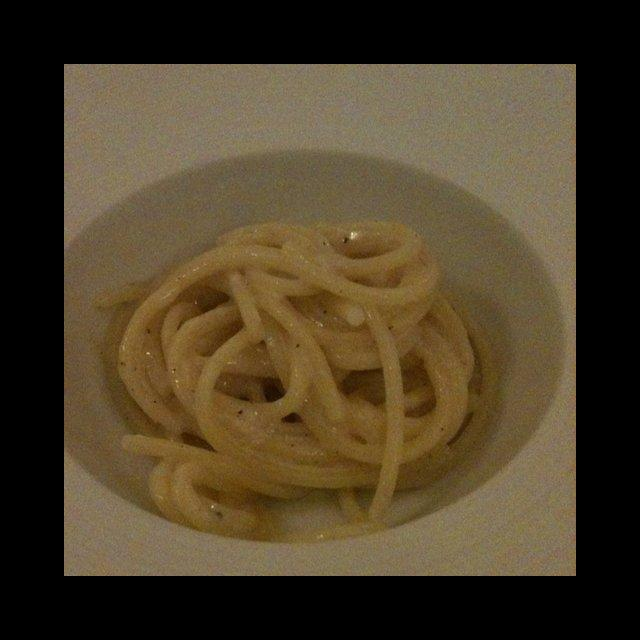noodles: (94, 212, 493, 535)
